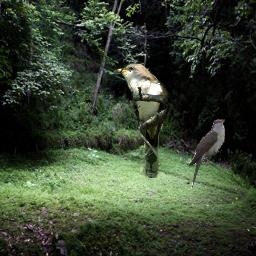Cuckoo: (113, 63, 168, 178), (188, 119, 225, 190)
